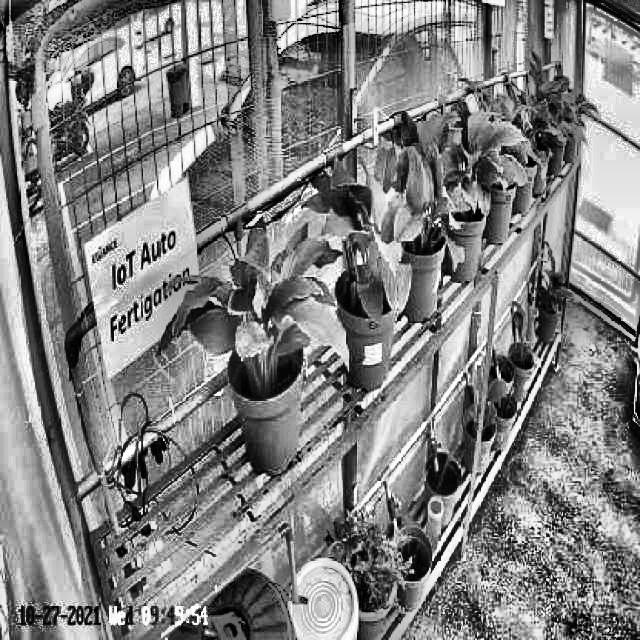plants: (159, 218, 350, 394), (304, 161, 412, 314), (378, 106, 468, 272), (428, 99, 528, 218)
